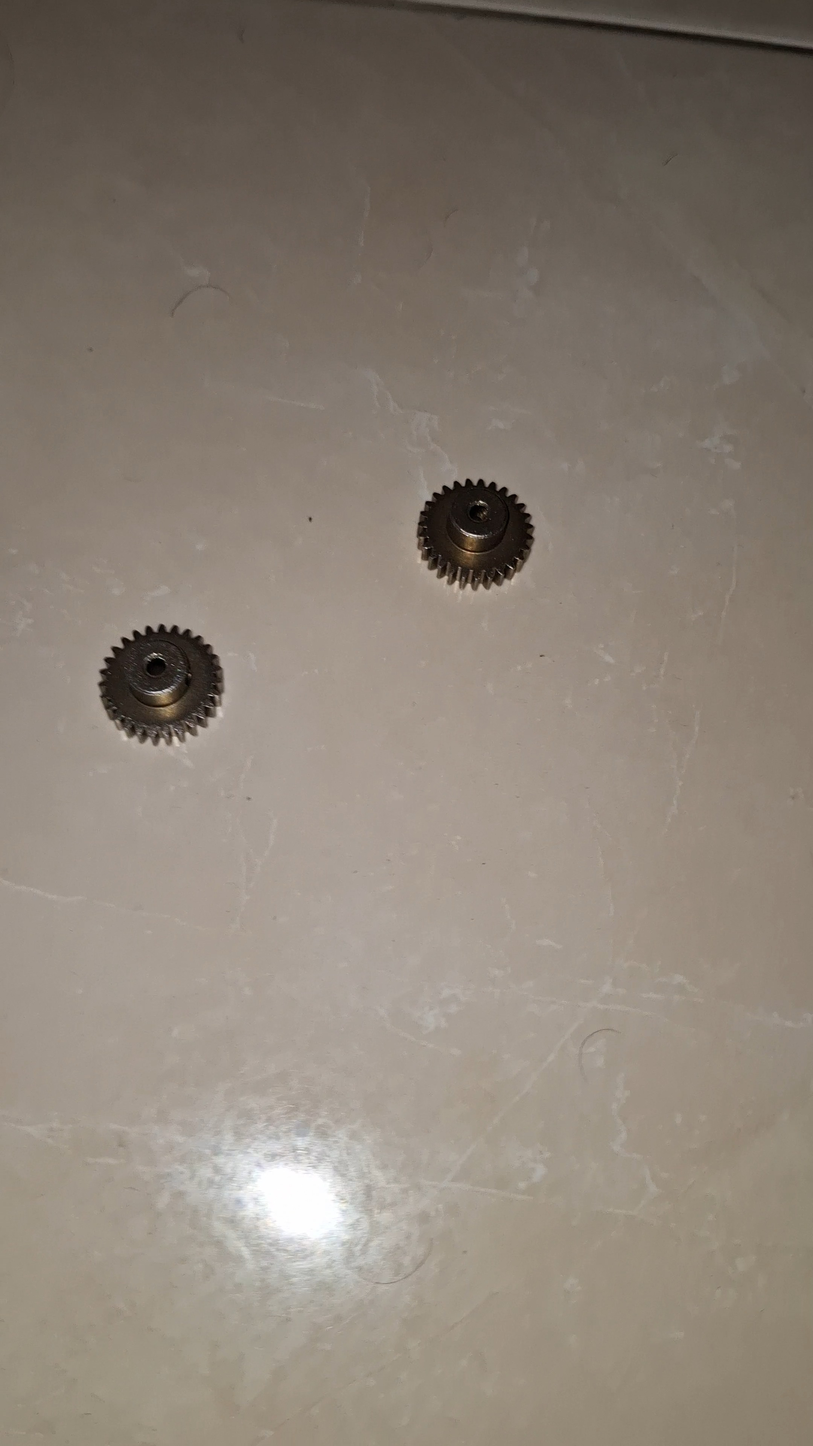spur gear: (101, 625, 222, 743), (418, 479, 533, 588)
